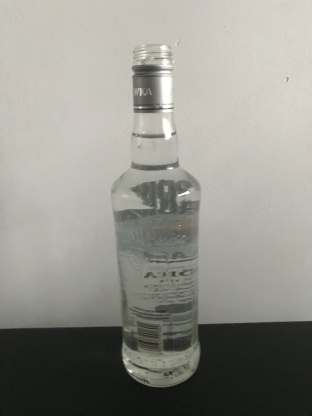nakretka: (130, 41, 175, 112)
